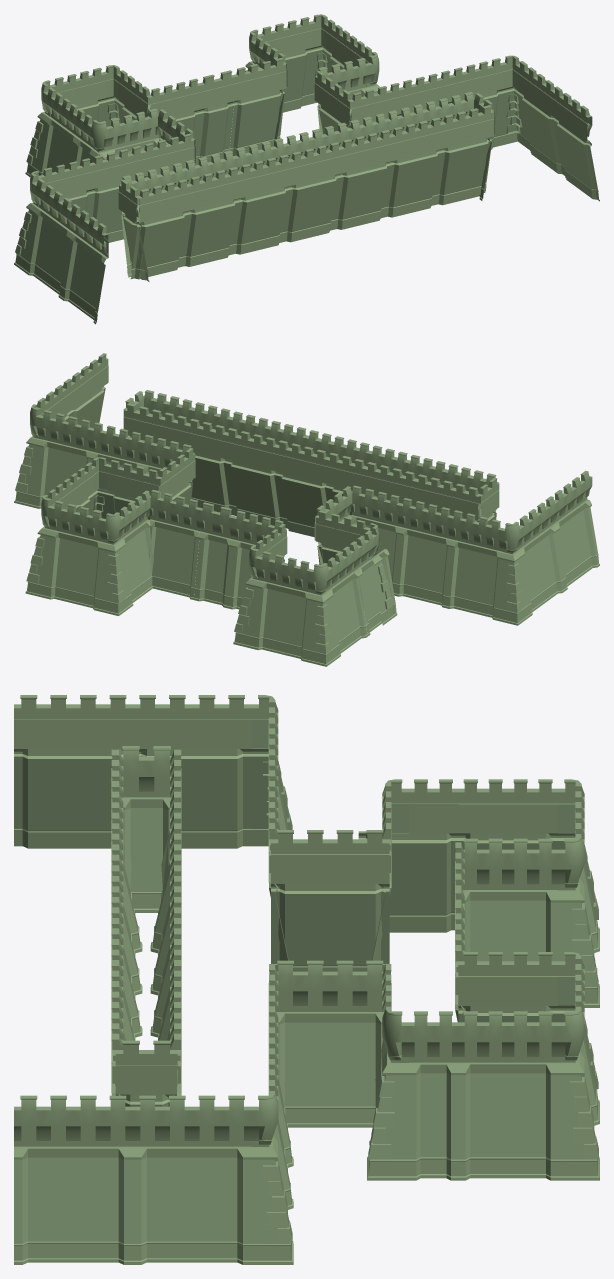
The model's file is castle_keep.fbx.
3 renders of one model, top to bottom at view 1: azimuth 30°, elevation 25°; view 2: azimuth 150°, elevation 25°; view 3: azimuth 270°, elevation 25°, orthographic. The views are drawn at different scales.
Parts seen in each view (by area): view 1: bottom_wall_6 (×14), wall_group_group11_group8_top_wall2 (×27), main_wall3 (×17), bottom_wall_26, bottom_wall_29, corner_bottom (×2), bottom_wall_22, bottom_wall_28, wall_group_group11_group8_top_wall13, wall_group_group11_group8_top_wall14, main_wall17, wall_group_group11_group8_top_wall6 (+17 smaller); view 2: bottom_wall_6 (×10), wall_group_group11_group8_top_wall2 (×27), main_wall3 (×11), corner_bottom (×5), bottom_wall_28, bottom_wall_23, bottom_wall_30, bottom_wall_26, bottom_wall_29, bottom_wall_22, corner_bottom7, corner_bottom6 (+16 smaller); view 3: bottom_wall_6 (×10), wall_group_group11_group8_top_wall2 (×8), main_wall3 (×7), bottom_wall_26, bottom_wall_27, corner_bottom (×3), bottom_wall_29, bottom_wall_24, main_wall16, corner_safe1 (×3), main_wall15, main_wall18 (+13 smaller).
Boxes of the visible parts, x1,y1,x2,y2 form: bottom_wall_6 (×14): [121, 48, 599, 281]; wall_group_group11_group8_top_wall2 (×27): [108, 17, 592, 218]; main_wall3 (×17): [139, 30, 587, 222]; bottom_wall_26: [61, 233, 107, 324]; bottom_wall_29: [26, 207, 73, 298]; corner_bottom (×2): [305, 45, 530, 150]; bottom_wall_22: [39, 116, 78, 175]; bottom_wall_28: [89, 179, 135, 242]; wall_group_group11_group8_top_wall13: [69, 204, 108, 254]; wall_group_group11_group8_top_wall14: [34, 178, 71, 228]; main_wall17: [93, 159, 143, 188]; wall_group_group11_group8_top_wall6: [45, 87, 77, 133]; bottom_wall_6 (×10): [35, 386, 397, 635]; wall_group_group11_group8_top_wall2 (×27): [36, 353, 498, 538]; main_wall3 (×11): [73, 365, 478, 549]; corner_bottom (×5): [14, 436, 394, 625]; bottom_wall_28: [395, 527, 452, 607]; bottom_wall_23: [446, 539, 503, 620]; bottom_wall_30: [254, 581, 311, 661]; bottom_wall_26: [553, 499, 599, 590]; bottom_wall_29: [518, 525, 564, 616]; bottom_wall_22: [327, 570, 367, 657]; corner_bottom7: [496, 550, 530, 625]; corner_bottom6: [305, 591, 338, 666]; bottom_wall_6 (×10): [14, 797, 557, 1264]; wall_group_group11_group8_top_wall2 (×8): [14, 746, 557, 1140]; main_wall3 (×7): [14, 777, 557, 1146]; bottom_wall_26: [14, 749, 123, 848]; bottom_wall_27: [271, 884, 389, 971]; corner_bottom (×3): [251, 1055, 599, 1264]; bottom_wall_29: [139, 749, 251, 848]; bottom_wall_24: [464, 890, 557, 961]; main_wall16: [271, 854, 389, 883]; corner_safe1 (×3): [251, 1006, 584, 1144]; main_wall15: [14, 719, 132, 748]; main_wall18: [132, 719, 251, 748].
Bounding box in the file's own units: 30.41 × 5.39 × 17.98.
